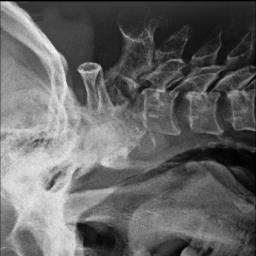cancer: (50, 77, 153, 169)
